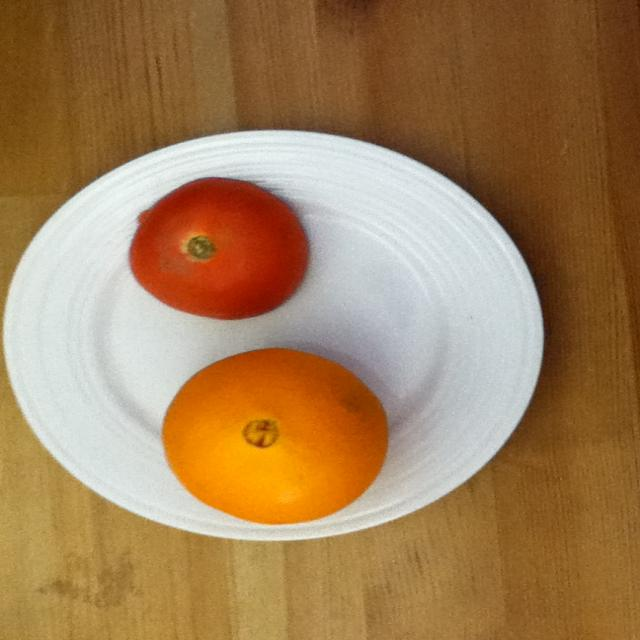orange: (150, 343, 408, 530)
tomato: (134, 170, 300, 316)
